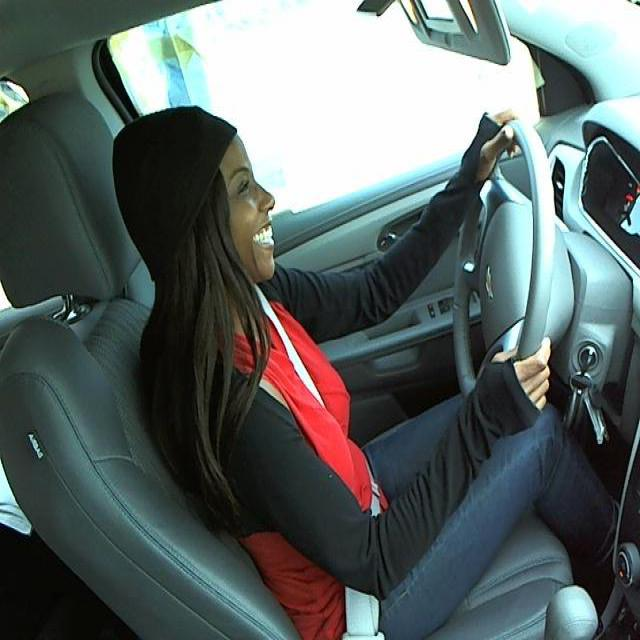seatbelt: (269, 301, 407, 615)
